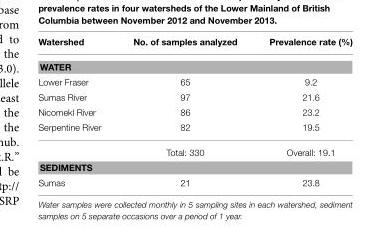table: (37, 37, 351, 187)
table column: (116, 37, 252, 187), (252, 37, 351, 187), (37, 37, 116, 187)
table column header: (37, 37, 351, 54)
table projected row header: (37, 54, 351, 74), (37, 160, 351, 175)
table row: (37, 139, 351, 160), (37, 54, 351, 74), (37, 119, 351, 139), (37, 37, 351, 54), (37, 74, 351, 89), (37, 89, 351, 104), (37, 104, 351, 119), (37, 160, 351, 175), (37, 175, 351, 187)
table spanning cell: (37, 119, 116, 160)
